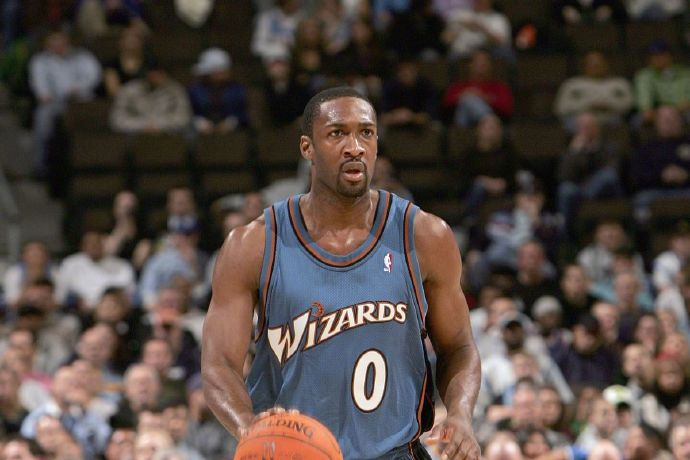ball: (233, 411, 344, 460)
